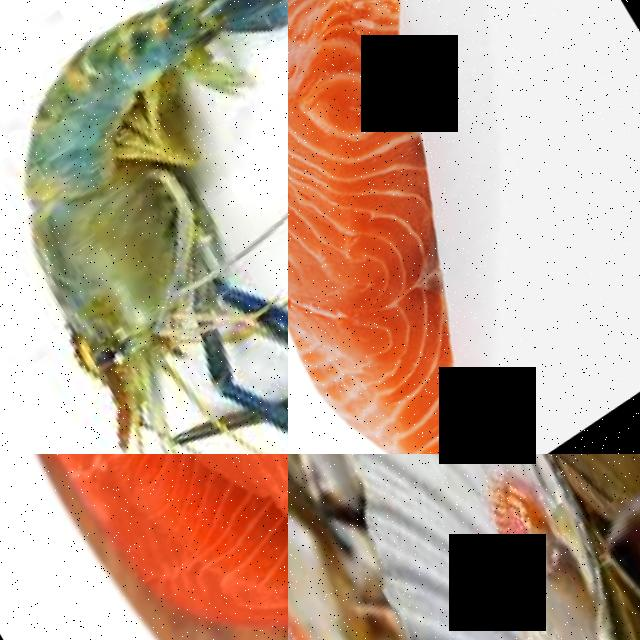salmon: (288, 0, 640, 454), (0, 454, 288, 640), (46, 454, 288, 640)
shrimp: (0, 0, 288, 454)
